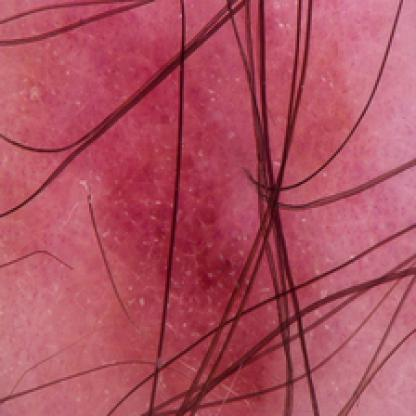benign: (76, 21, 295, 362)
